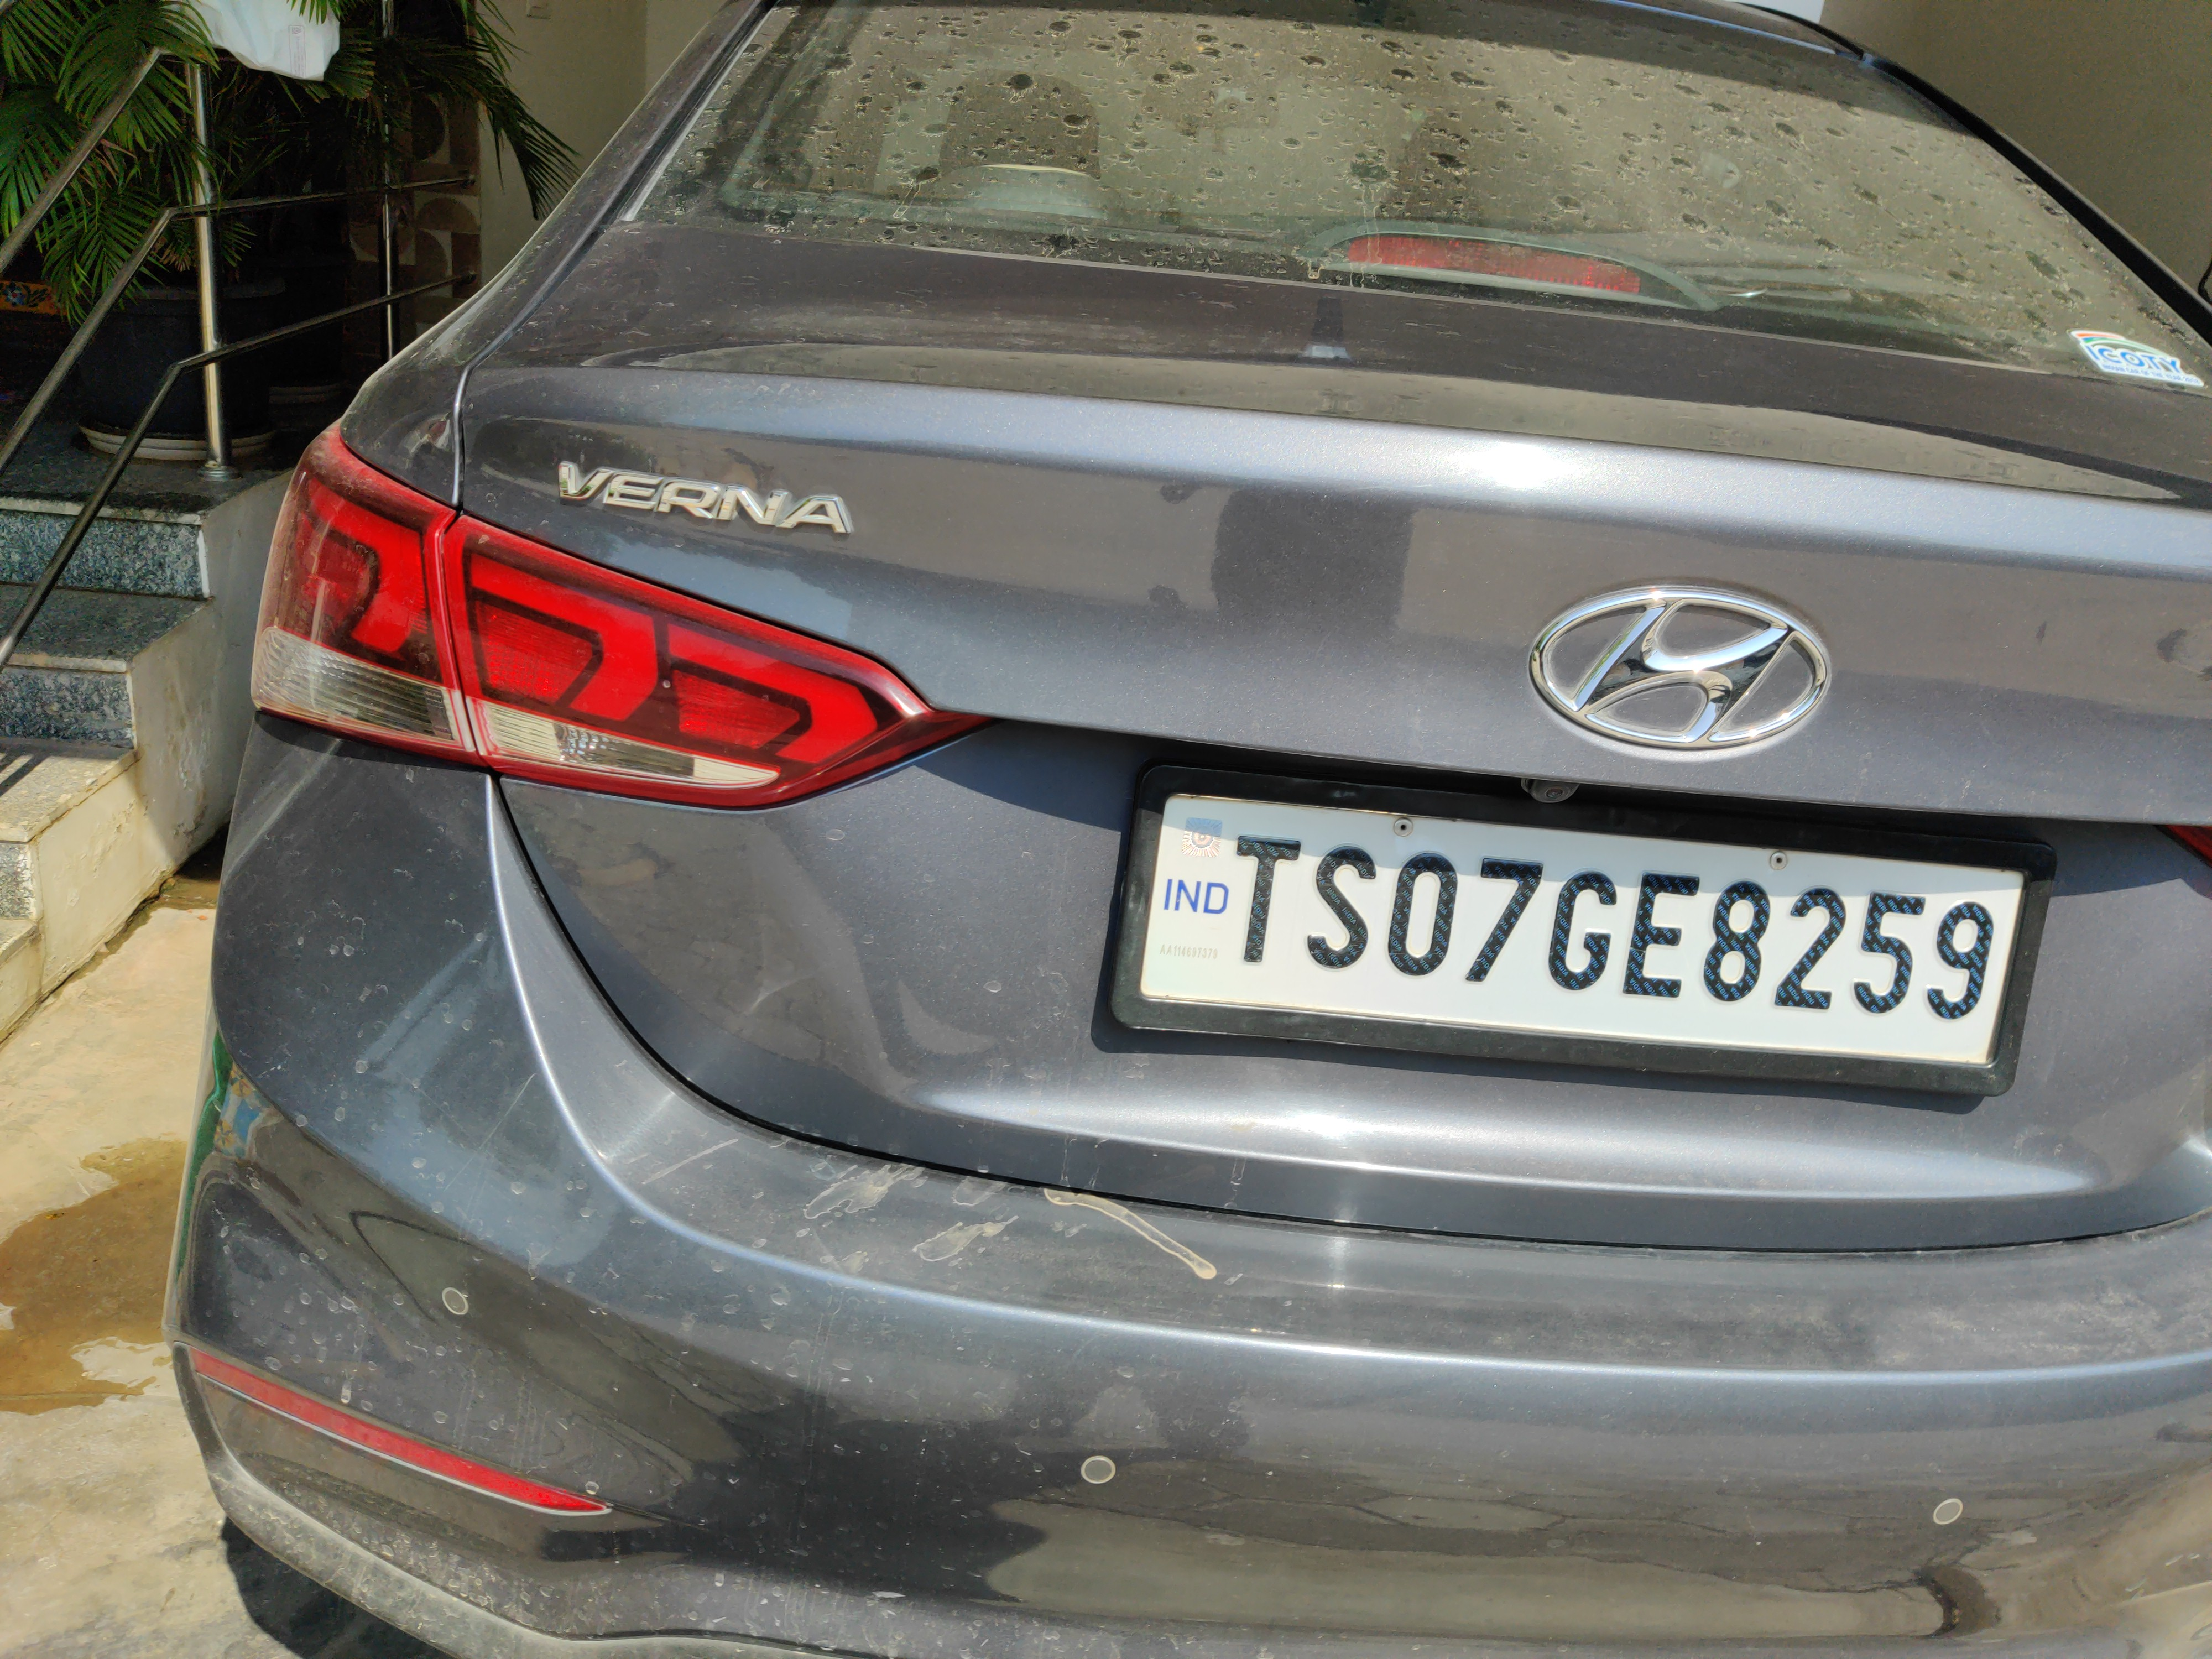plate: (1069, 734, 2074, 1121)
